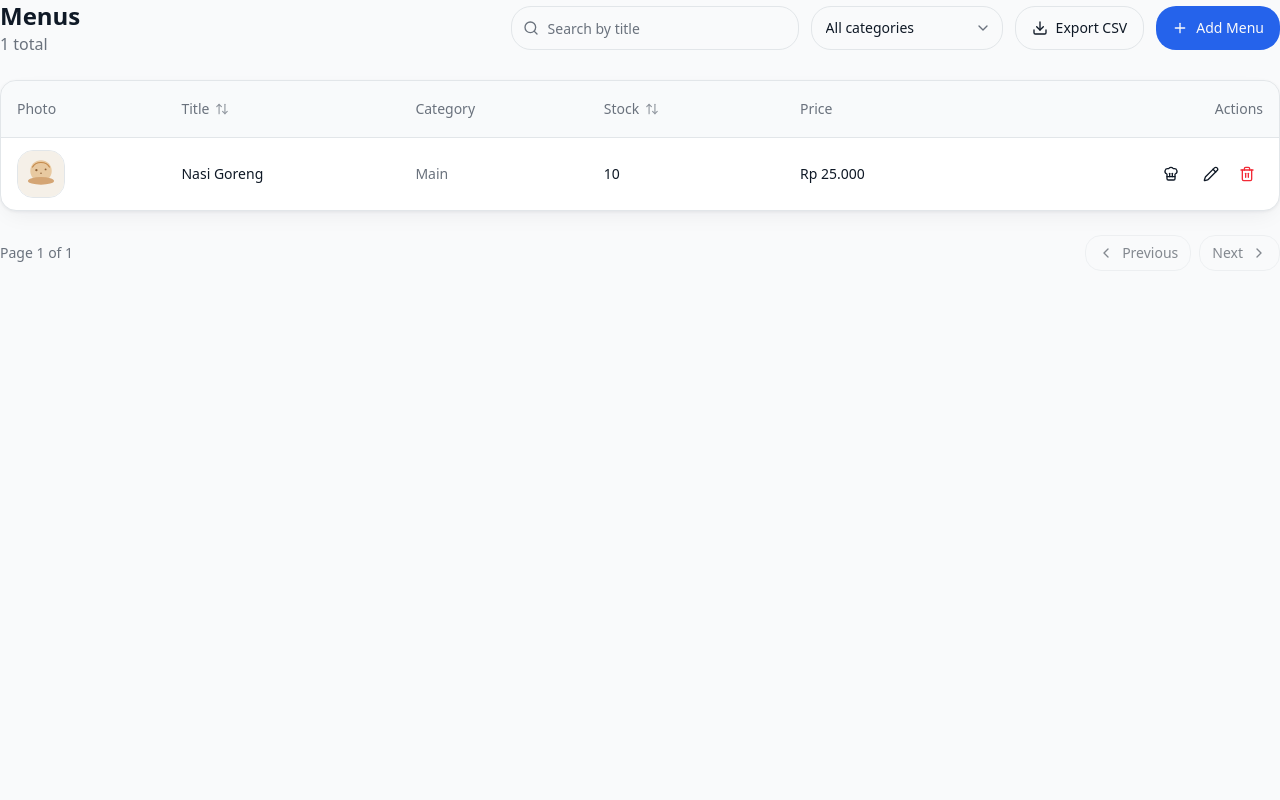
Test case: AdminMenusPage › closes the dialog on cancel without saving
The image size is (1280, 800).
Expected: the text "Nasi Goreng" is shown, [182,164,263,184]
Click the button "Add Menu": coordinates (1218, 28) [1156,6,1279,50]
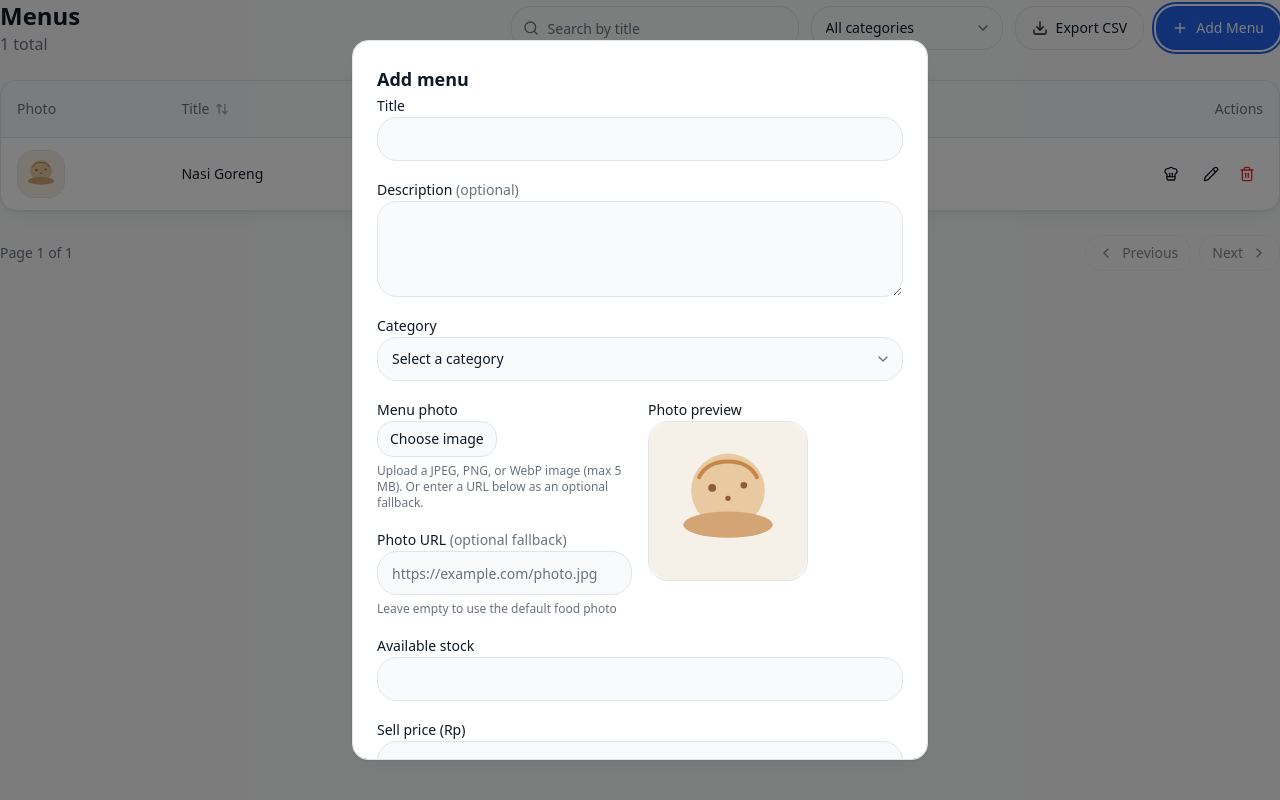
In the field labelled "Title": coordinates (640, 139) [377,117,903,161], type "Satay"
(page scrolled)
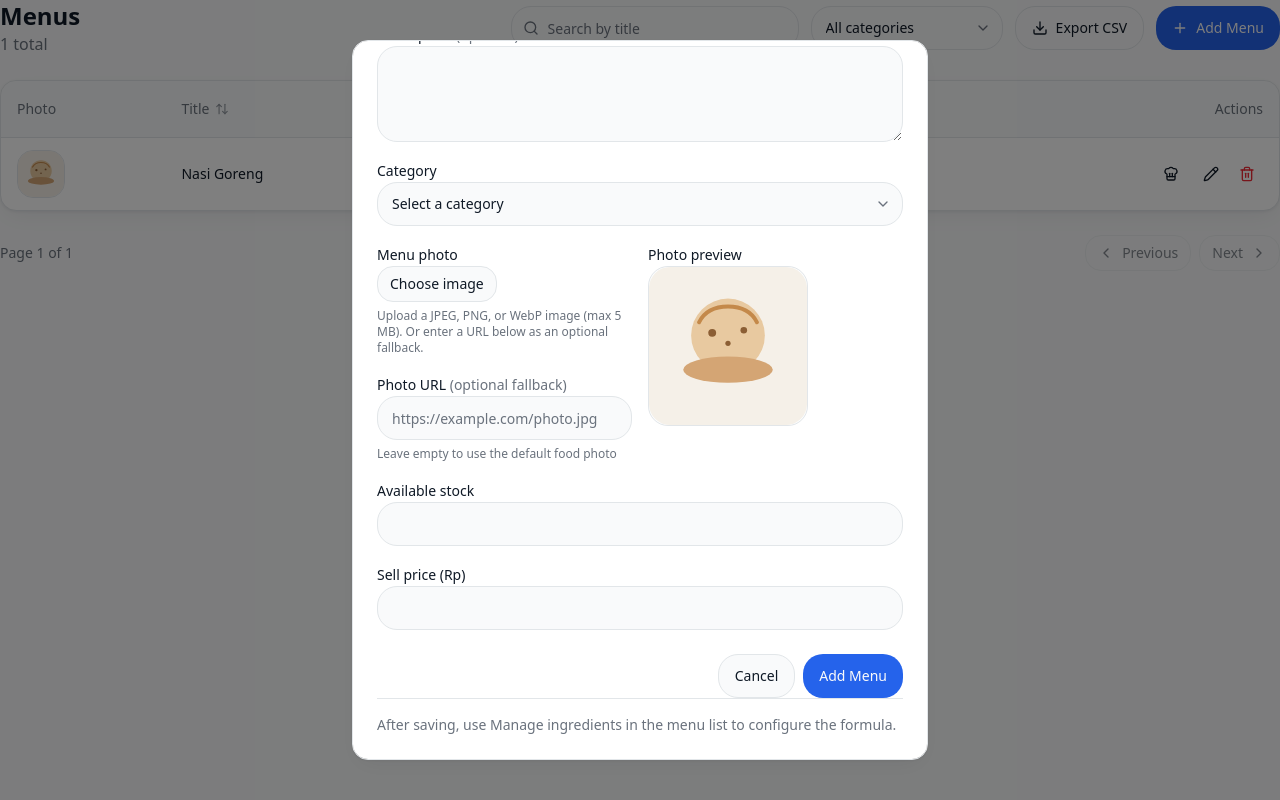
Click the button "Cancel": coordinates (756, 676) [718,654,795,698]
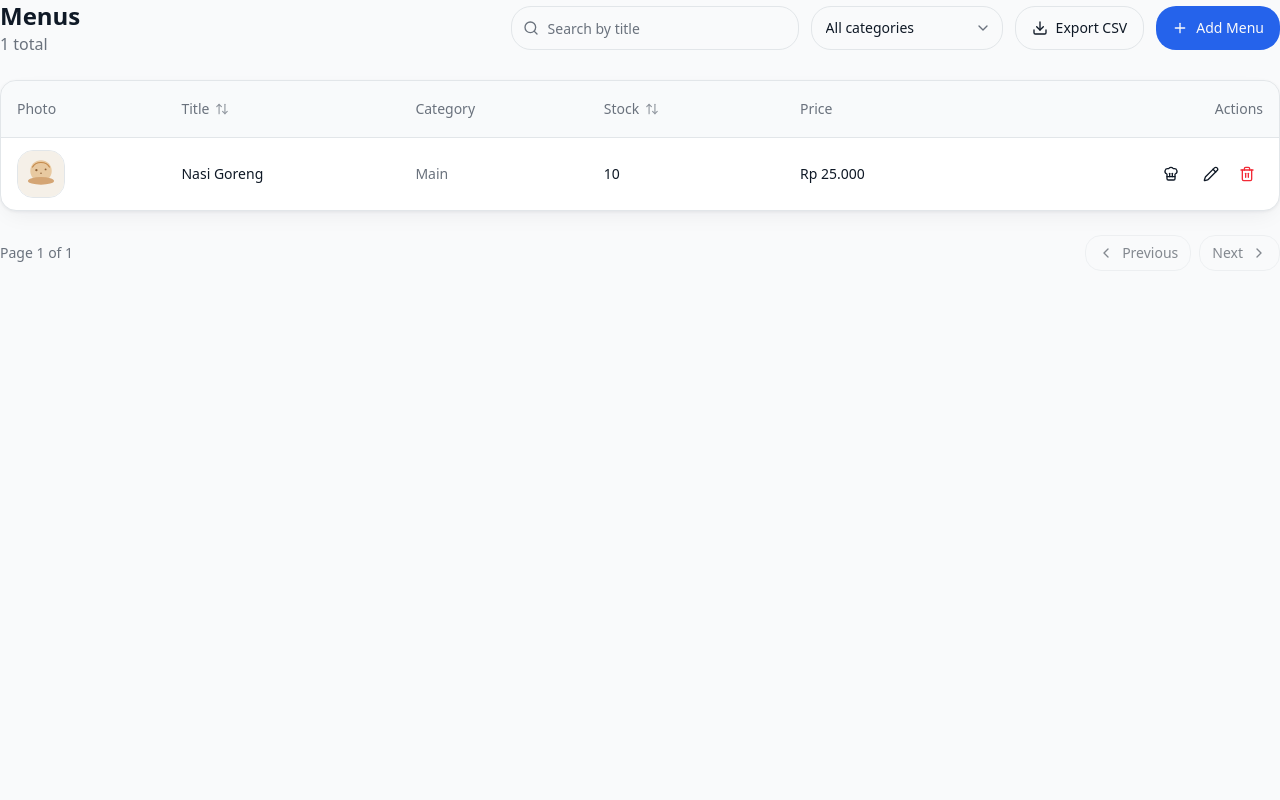
Expected: the dialog is gone
